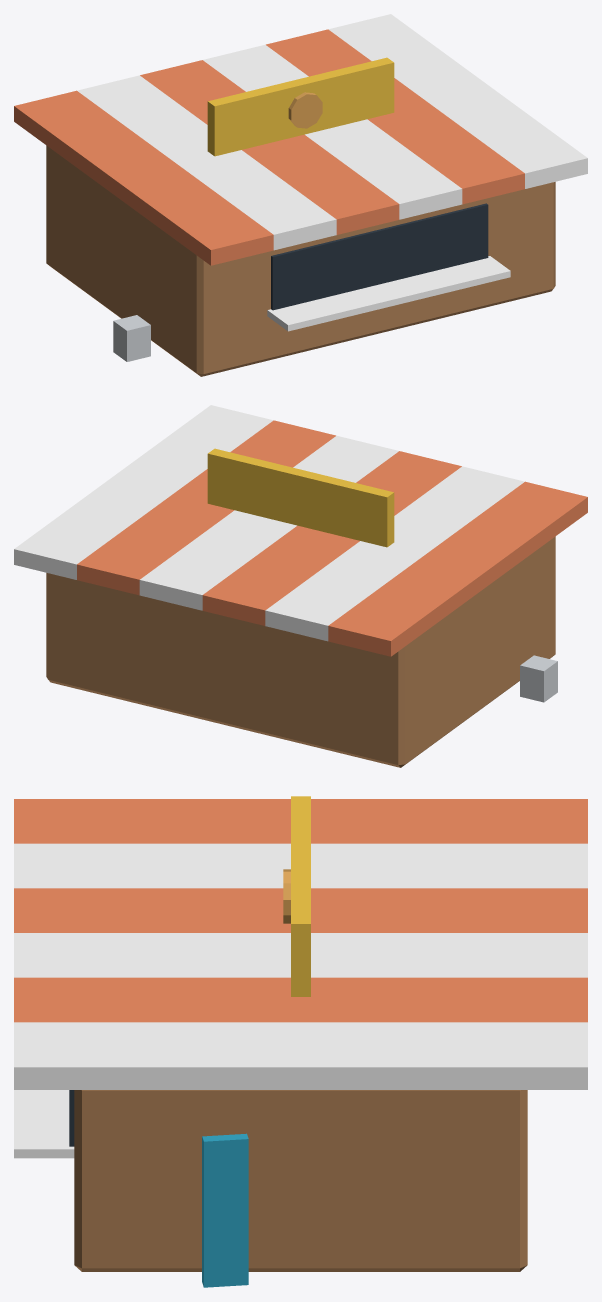
File: d_kiosk.fbx
3 renders of one model, top to bottom at view 1: azimuth 30°, elevation 25°; view 2: azimuth 150°, elevation 25°; view 3: azimuth 270°, elevation 25°, orthographic. The views are drawn at different scales.
Visible parts, largest first — view 1: d_kiosk; view 2: d_kiosk; view 3: d_kiosk.
Boxes of the visible parts, x1,y1,x2,y2 form: d_kiosk: (14,14,587,376); d_kiosk: (14,405,587,767); d_kiosk: (14,796,587,1287).
Size of the model in its own units: 13.79 by 6.3 by 11.4.
